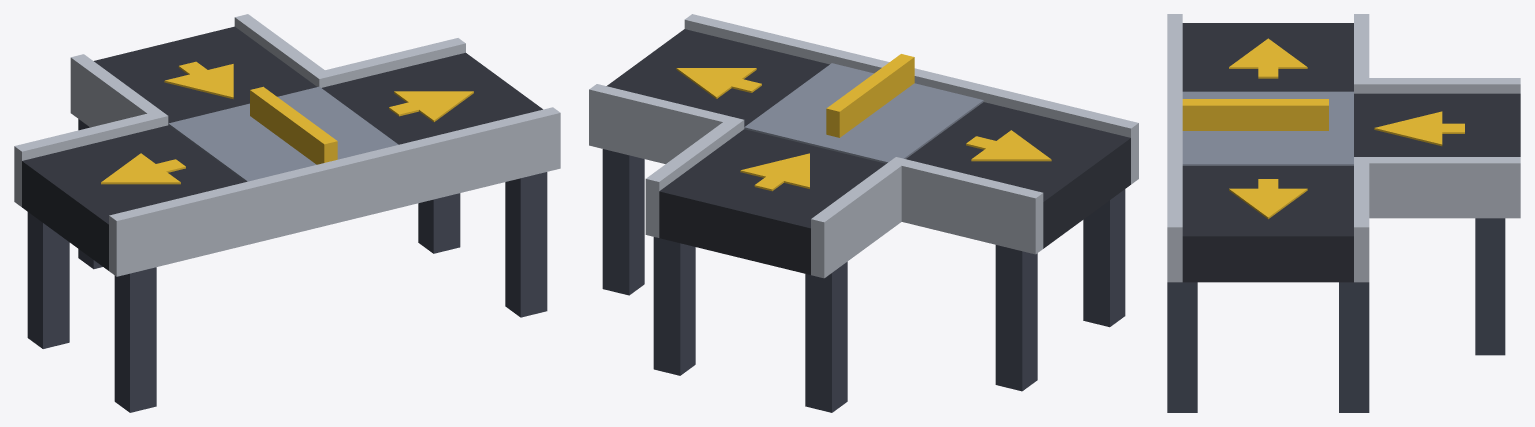
The model's file is conveyor-split.glb.
3 renders of one model, left to right at view 1: azimuth 30°, elevation 25°; view 2: azimuth 150°, elevation 25°; view 3: azimuth 270°, elevation 25°, orthographic. The views are drawn at different scales.
Visible parts, largest first — view 1: conveyor-split; view 2: conveyor-split; view 3: conveyor-split.
Part boxes in pixels (x1,y1,x2,y2): conveyor-split: (14,14,560,412); conveyor-split: (589,14,1138,412); conveyor-split: (1167,14,1520,412).
Size of the model in its own units: 1 by 0.46 by 0.7.
Materials: 1 (1 with a texture image).
